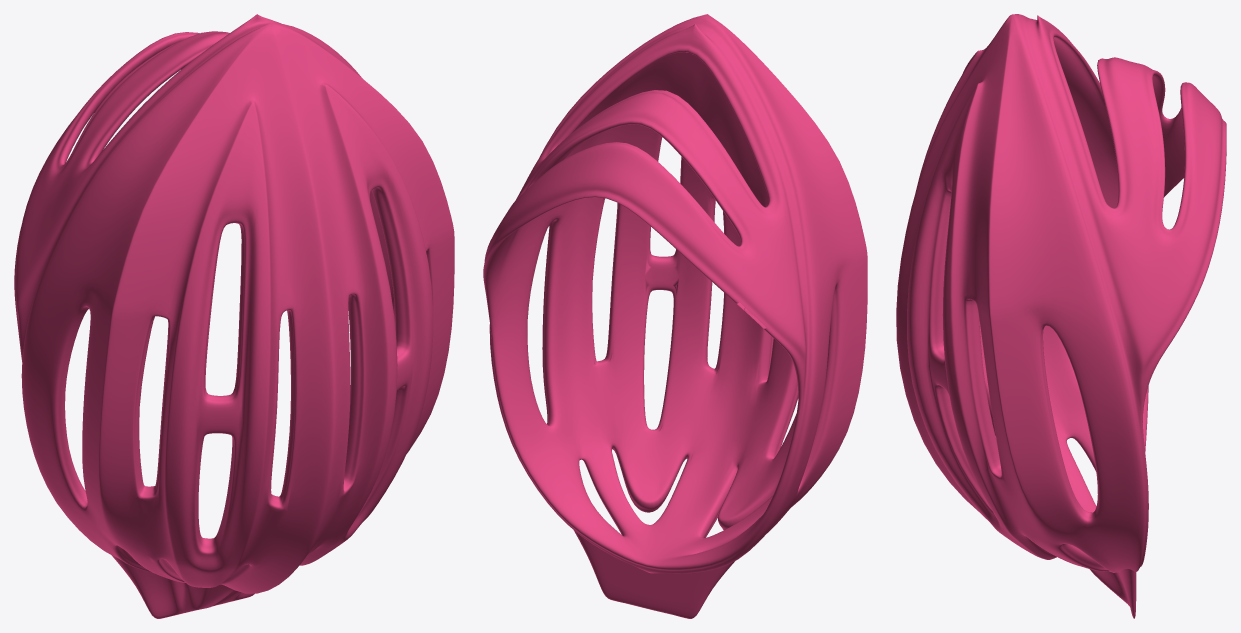
The model's file is helmet1.fbx.
3 renders of one model, left to right at view 1: azimuth 30°, elevation 25°; view 2: azimuth 150°, elevation 25°; view 3: azimuth 270°, elevation 25°, orthographic. The views are drawn at different scales.
Parts seen in each view (by area): view 1: helmet; view 2: helmet; view 3: helmet.
Part boxes in pixels (left/top/right/bottom): helmet: left=14, top=14, right=454, bottom=618; helmet: left=483, top=14, right=867, bottom=618; helmet: left=896, top=14, right=1226, bottom=618.
Bounding box in the file's own units: 1778 × 2916 × 1496.
